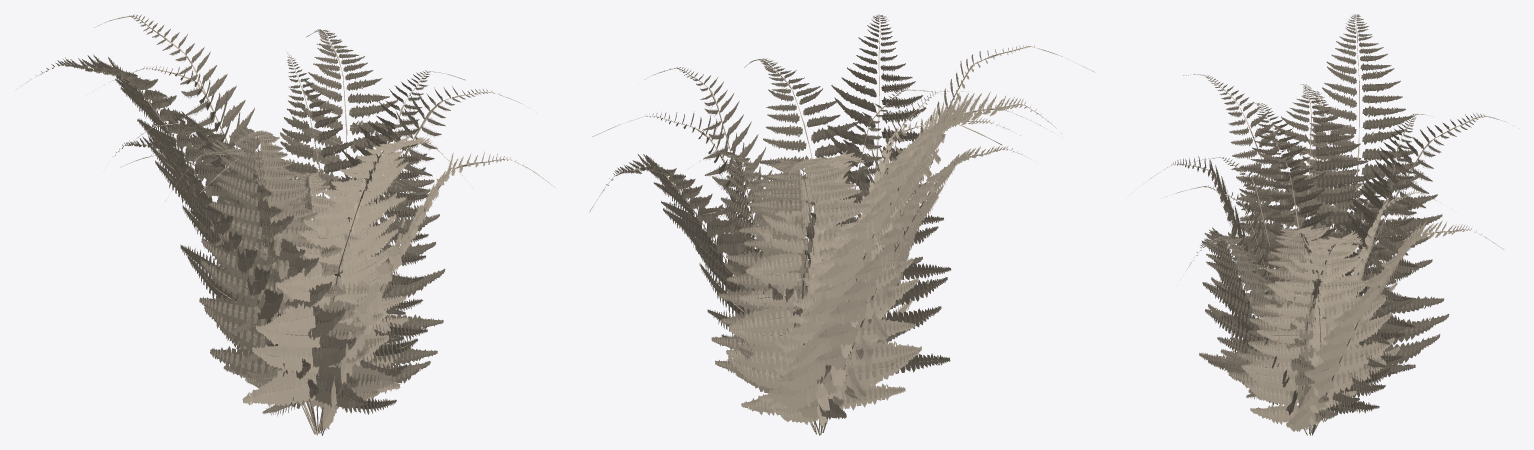
Rendered from 3dcodebench_Fern_seed0_L1_Q0__gpt61_sol.glb.
The picture shows the model from 3 angles, left to right: view 1: azimuth 30°, elevation 25°; view 2: azimuth 150°, elevation 25°; view 3: azimuth 270°, elevation 25°; orthographic projection. The views are drawn at different scales.
Visible parts, largest first — view 1: object; view 2: object; view 3: object.
Part boxes in pixels (x1=…): object: x1=20, y1=14, x2=554, y2=435; object: x1=589, y1=14, x2=1095, y2=435; object: x1=1131, y1=14, x2=1519, y2=435.
Size of the model in its own units: 2.07 by 1.71 by 1.86.
